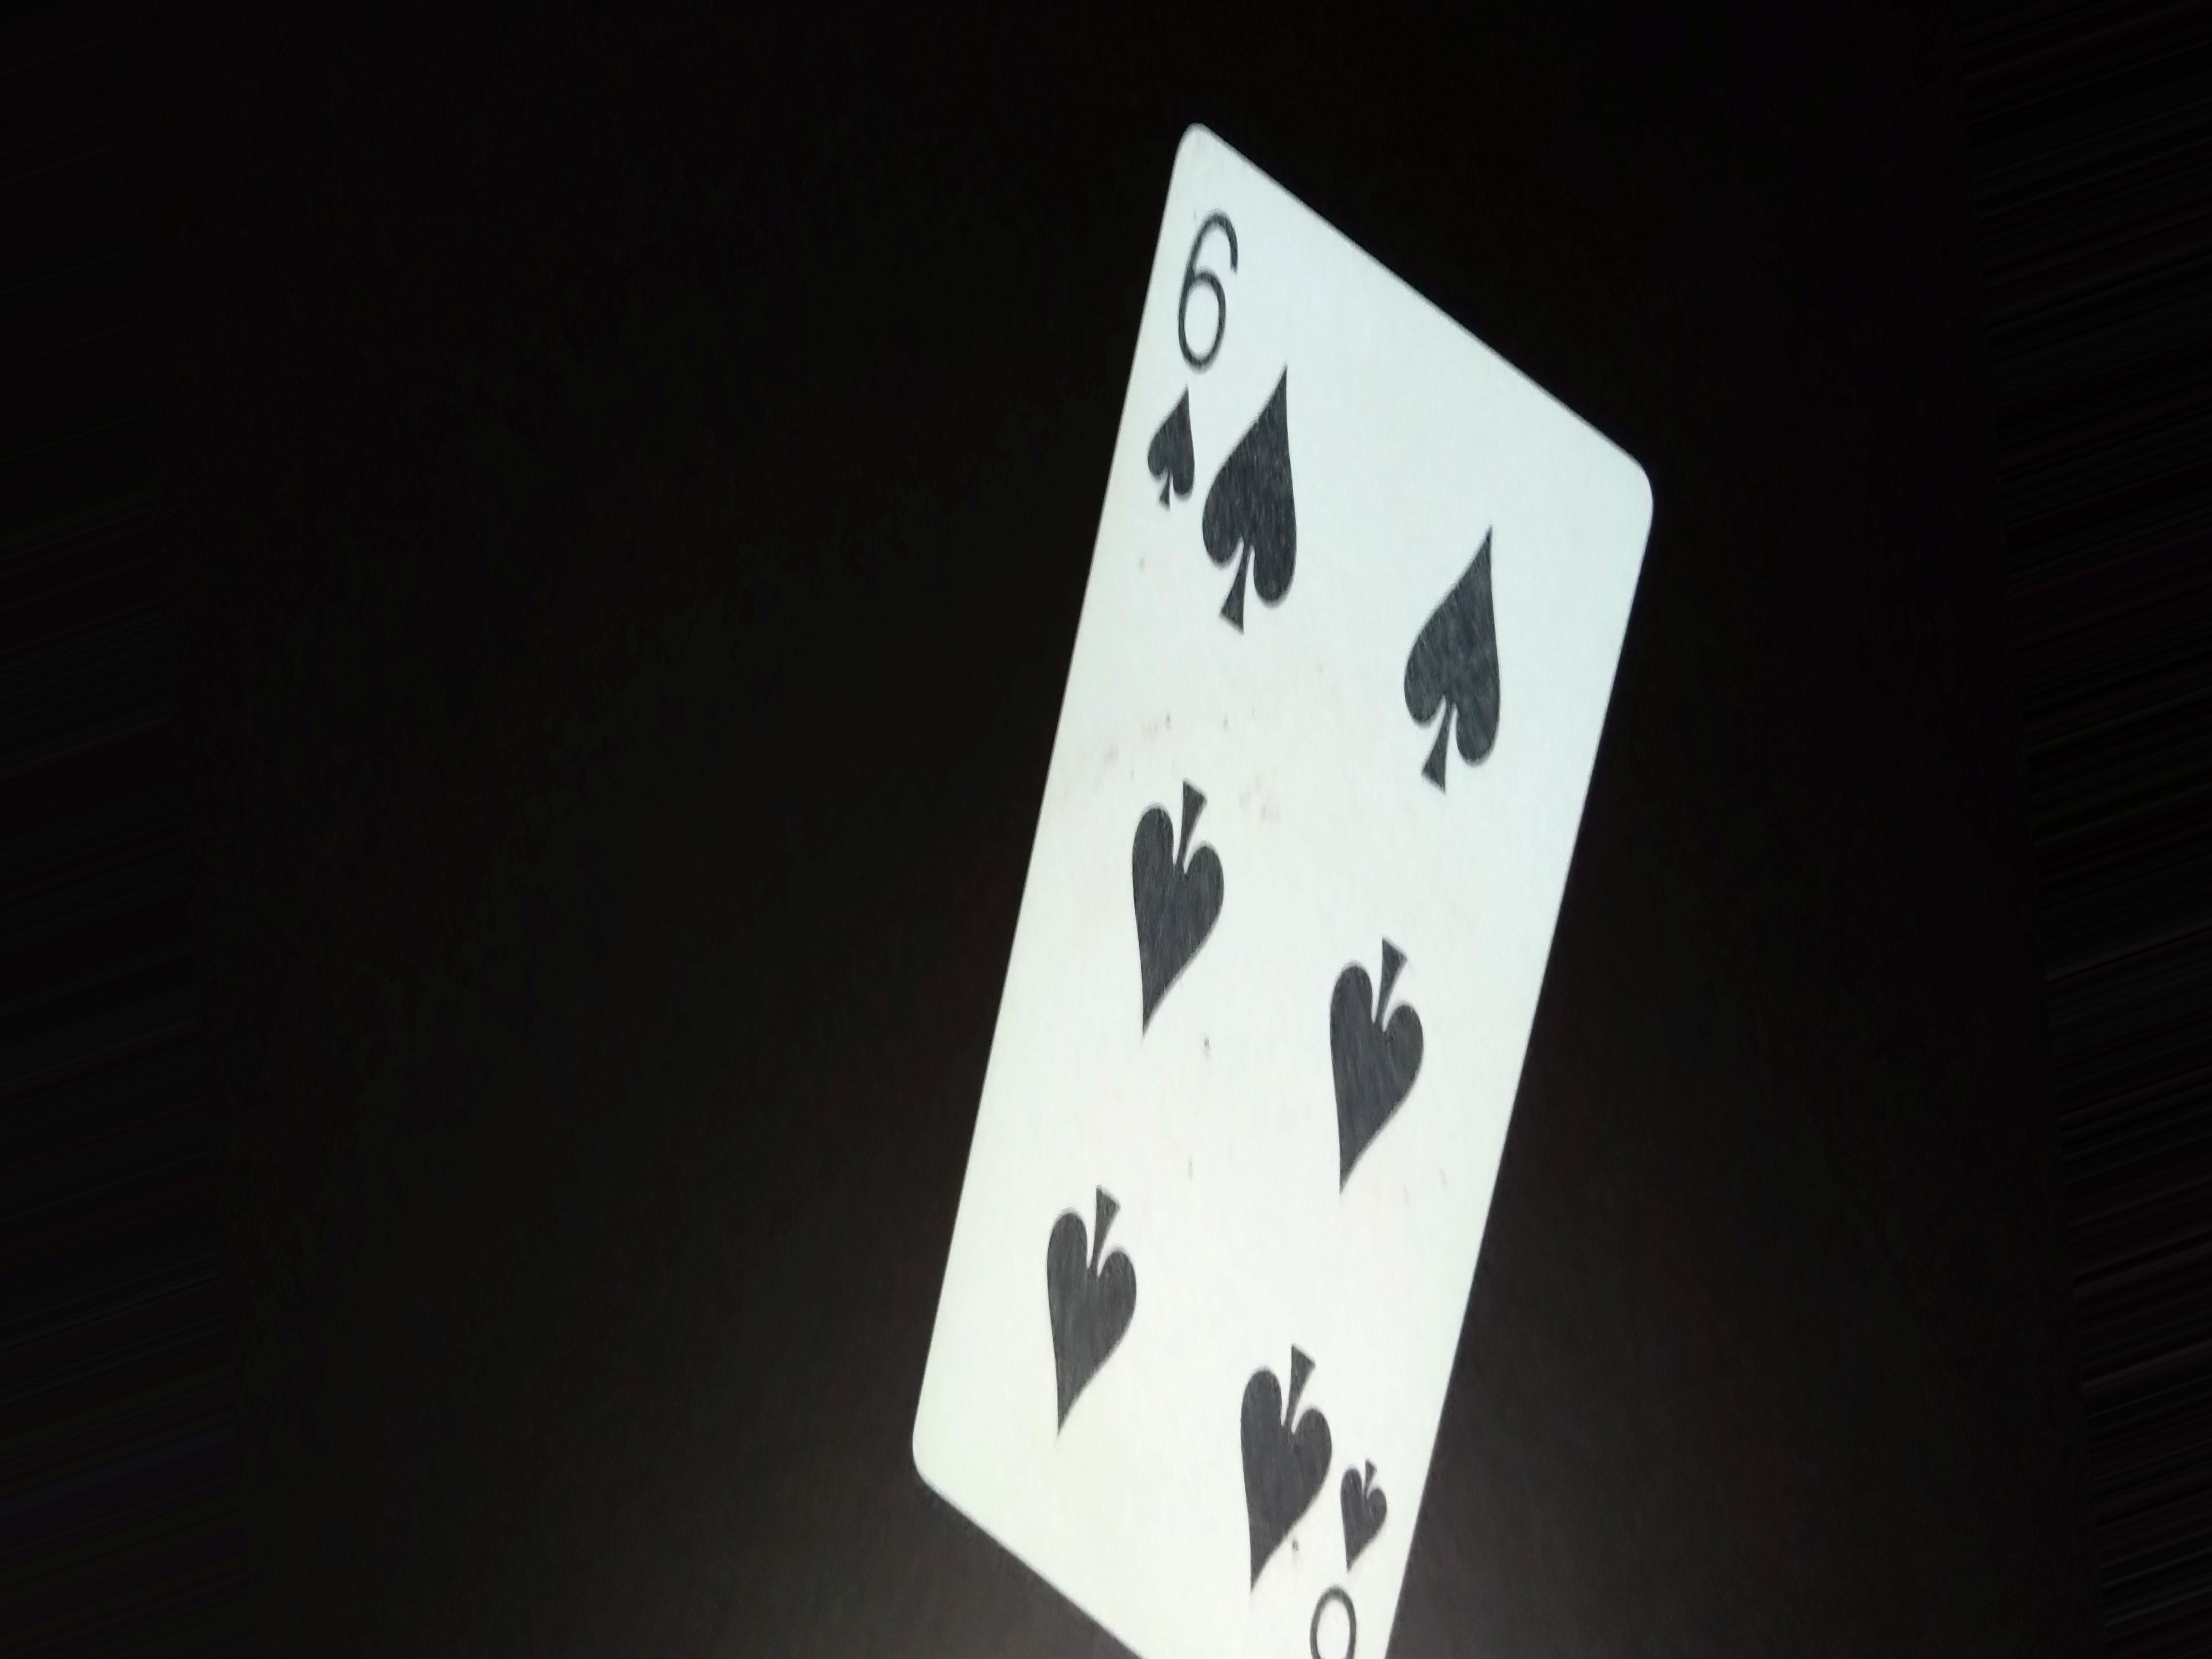6S: (1143, 173, 1244, 530)
